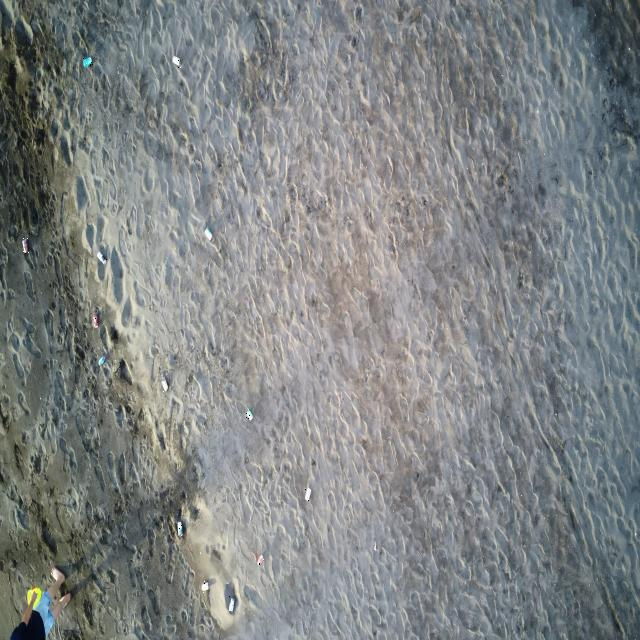tin-and-aluminum-cans: (96, 252, 107, 266), (204, 226, 213, 242), (83, 55, 93, 68), (228, 596, 236, 612), (161, 378, 169, 393), (246, 408, 254, 422), (22, 238, 29, 254), (201, 581, 210, 593), (177, 520, 183, 538), (305, 486, 312, 501), (173, 56, 181, 68), (257, 554, 264, 567), (98, 355, 105, 366), (93, 314, 98, 328)
